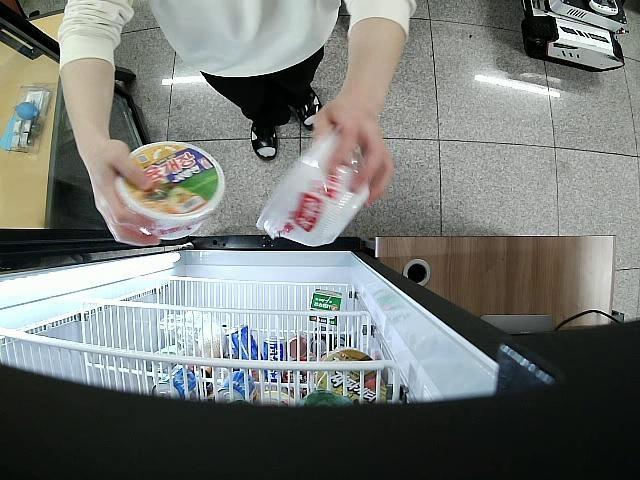09_yukGaeJang: (254, 132, 370, 246), (114, 140, 224, 240)
